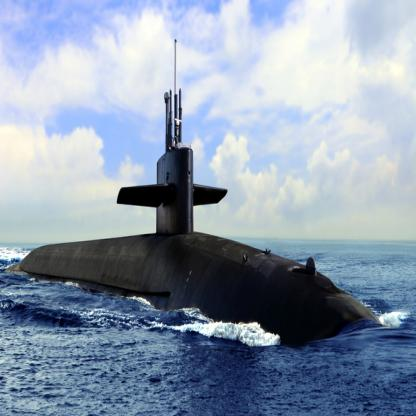Submarine: (5, 39, 384, 347)
